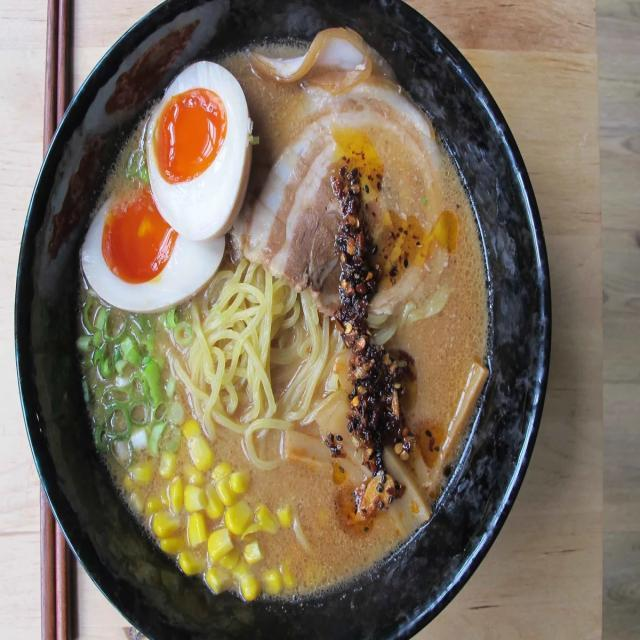cac loai rau cu: (122, 422, 296, 602), (63, 295, 163, 461), (400, 349, 484, 519)
mi misoramen: (62, 30, 500, 593)
soi mi miso: (163, 263, 348, 470)
thit heo: (243, 96, 439, 276), (258, 27, 368, 99)
trung: (147, 55, 256, 233), (87, 172, 227, 309)
